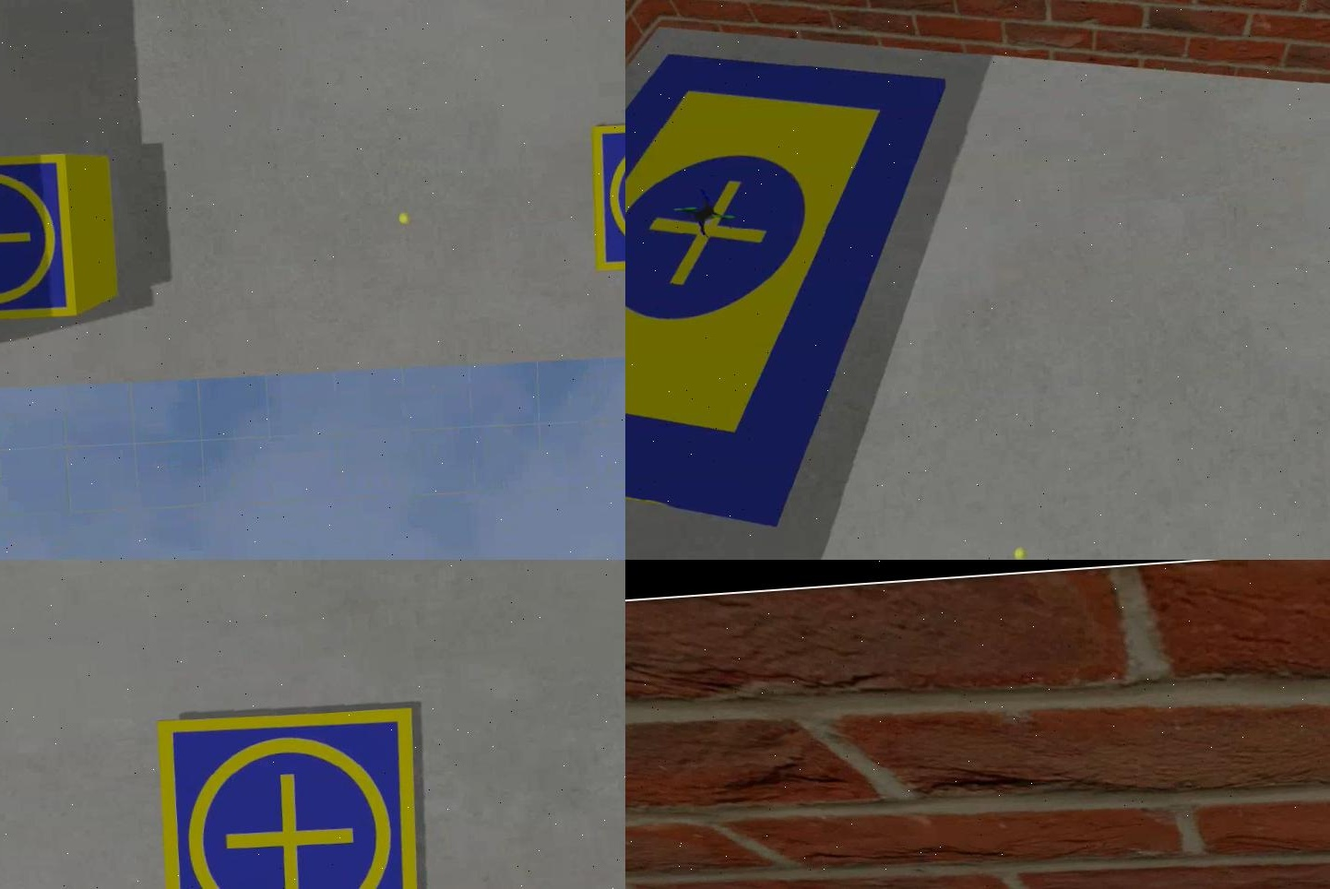large_base: (624, 32, 980, 553)
small_base: (148, 702, 429, 889), (0, 148, 79, 332), (582, 115, 624, 277)
